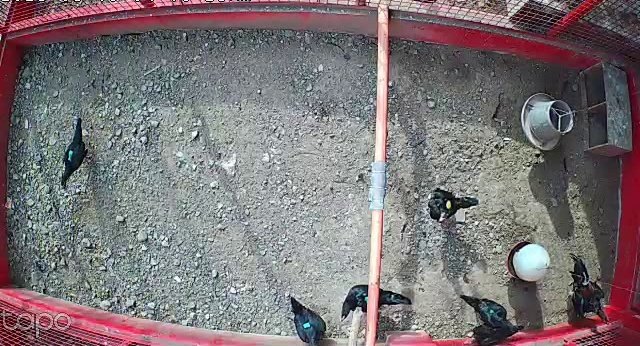Chicken: (338, 278, 412, 322), (57, 113, 92, 190), (462, 307, 529, 346), (285, 296, 331, 346), (426, 182, 480, 224), (457, 290, 516, 325)
Rooster: (559, 249, 613, 326)
Saddle_Color_Blue: (303, 323, 310, 329)
Saddle_Color_Yellow: (446, 198, 452, 210)
